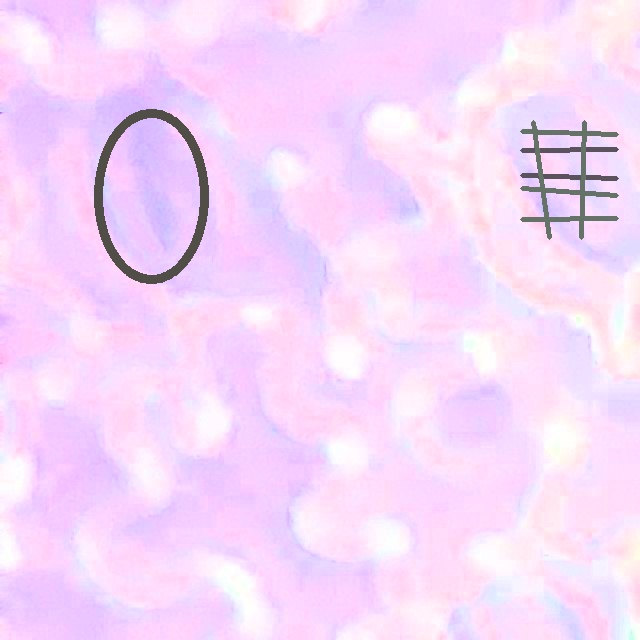open: (93, 108, 209, 284), (520, 120, 618, 239)
